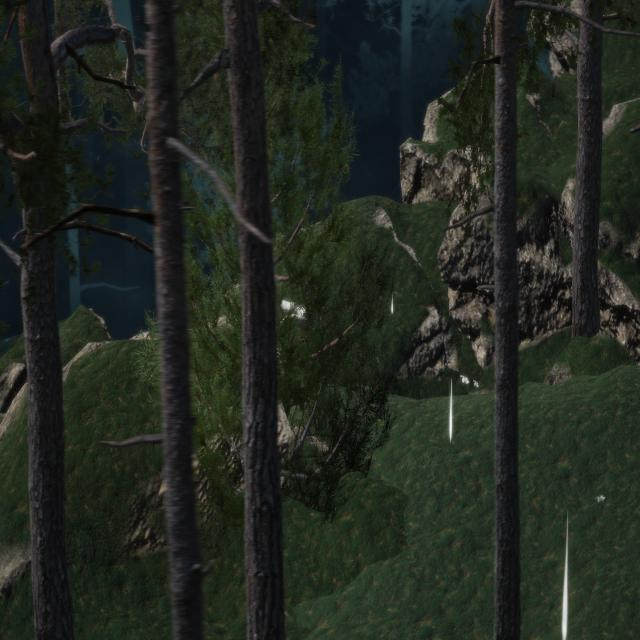Human: (274, 278, 321, 343)
